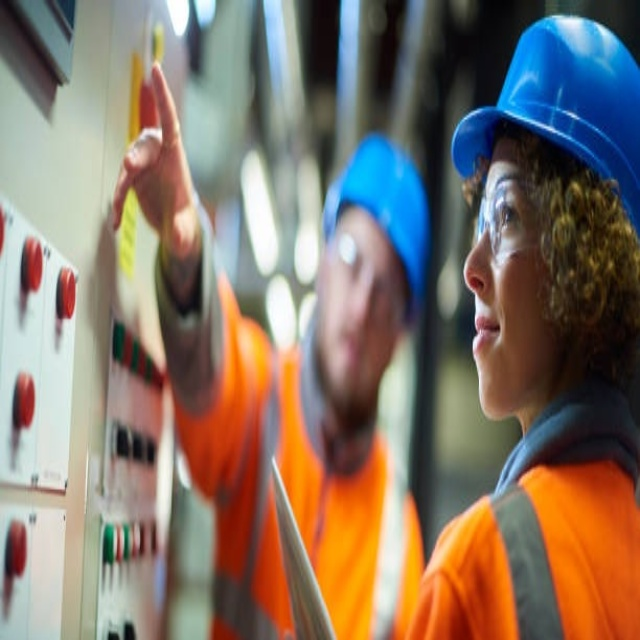Gafas: (471, 173, 538, 261)
Sin_guantes: (110, 55, 196, 251)
Sin_mascara: (462, 295, 510, 412)
